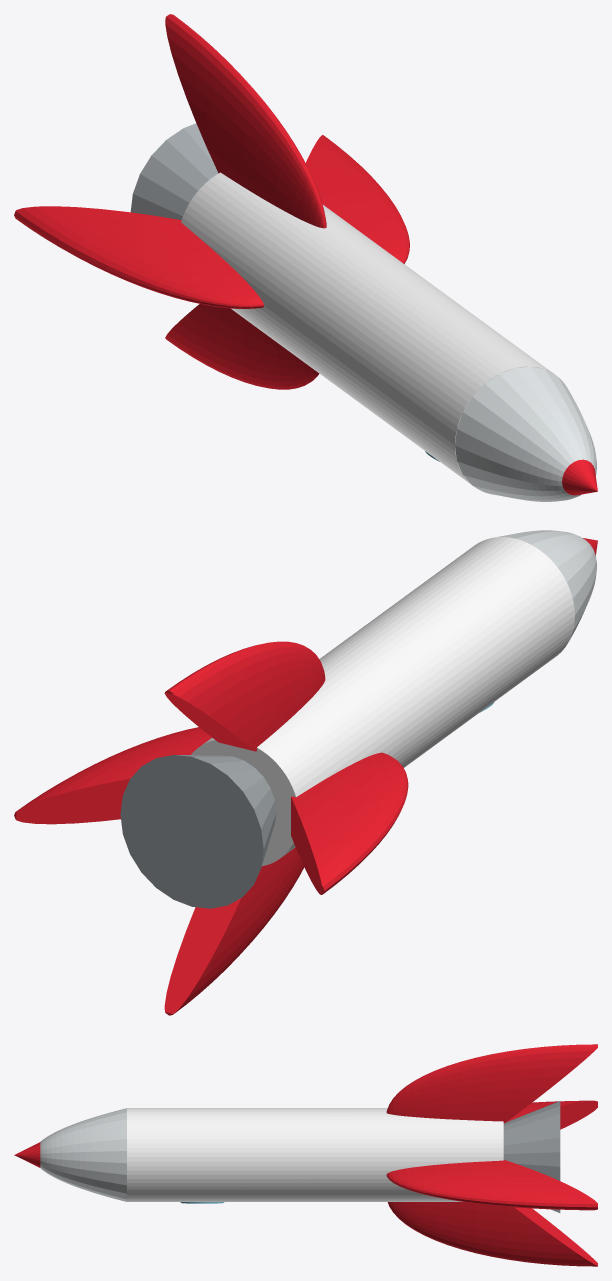
File: tinker.obj
The picture shows the model from 3 angles, top to bottom: view 1: azimuth 30°, elevation 25°; view 2: azimuth 150°, elevation 25°; view 3: azimuth 270°, elevation 25°; orthographic projection. The views are drawn at different scales.
Visible parts, largest first — view 1: group_0_16448250, group_0_15277357, group_0_14541540, group_0_10988977; view 2: group_0_16448250, group_0_15277357, group_0_10988977, group_0_14541540; view 3: group_0_16448250, group_0_15277357, group_0_14541540, group_0_10988977.
Boxes of the visible parts, bbox=[...] form: group_0_16448250: bbox=[181, 172, 565, 494]; group_0_15277357: bbox=[14, 14, 597, 495]; group_0_14541540: bbox=[455, 366, 596, 501]; group_0_10988977: bbox=[130, 123, 218, 219]; group_0_16448250: bbox=[191, 537, 574, 866]; group_0_15277357: bbox=[14, 538, 597, 1015]; group_0_10988977: bbox=[120, 755, 276, 908]; group_0_14541540: bbox=[499, 530, 596, 639]; group_0_16448250: bbox=[127, 1108, 503, 1201]; group_0_15277357: bbox=[14, 1044, 597, 1266]; group_0_14541540: bbox=[40, 1108, 126, 1201]; group_0_10988977: bbox=[503, 1101, 560, 1212].
Size of the model in its own units: 52 by 52 by 124.
